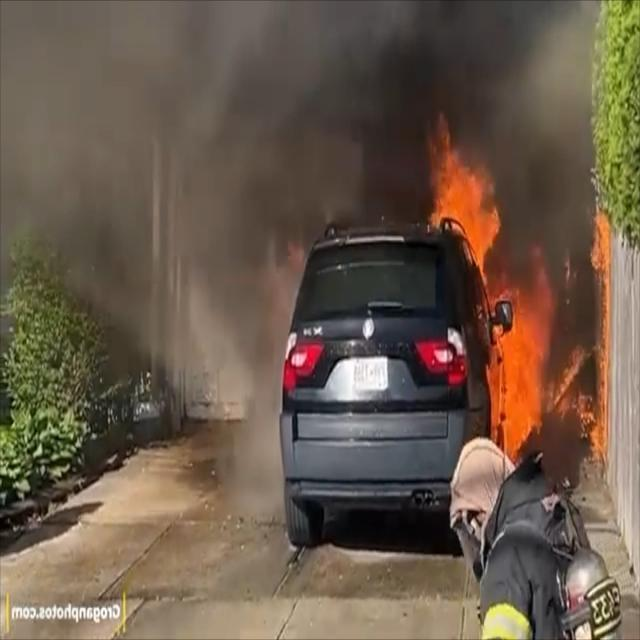fire: (417, 108, 614, 466)
